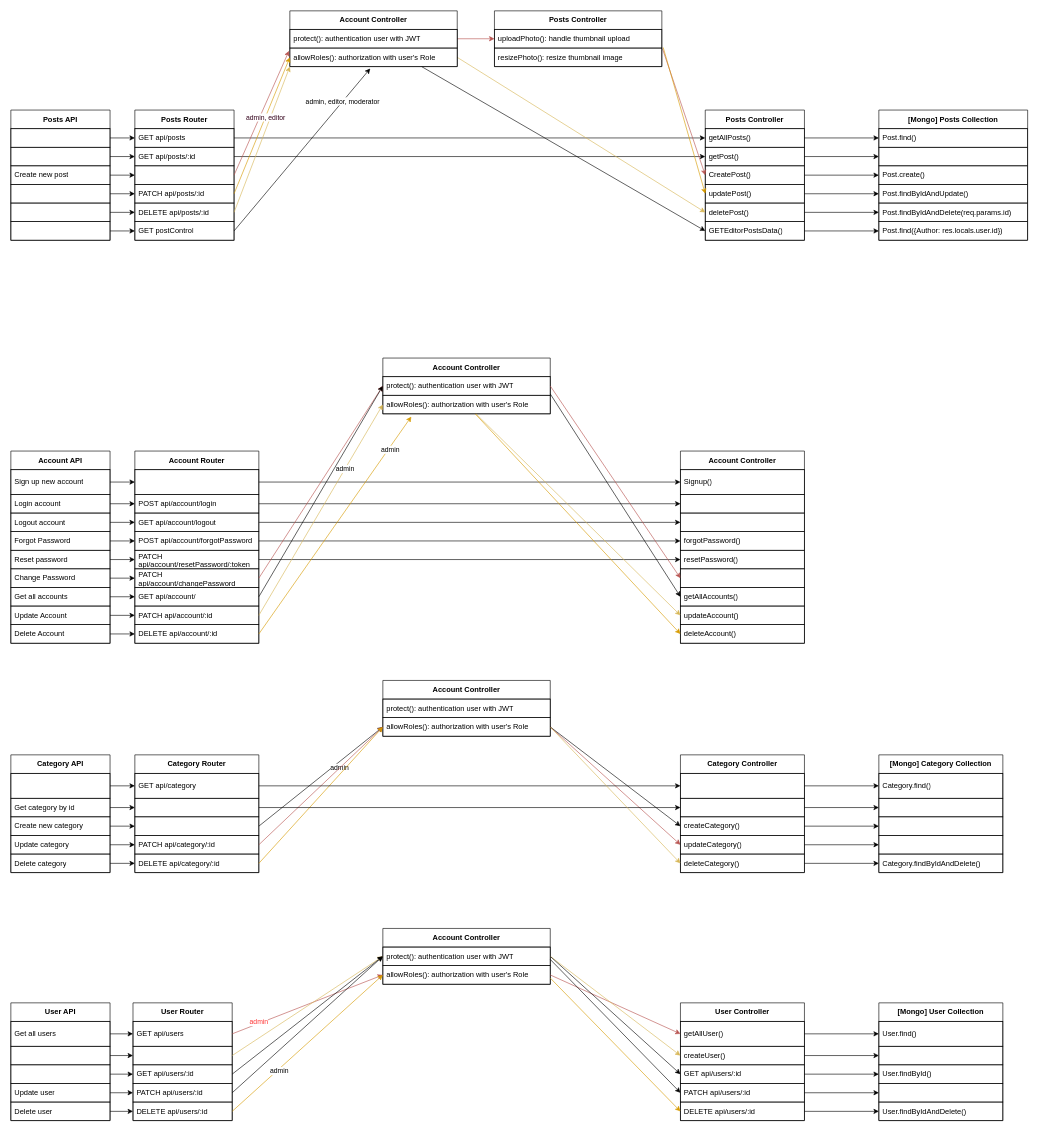
The diagram is 1039 pixels wide and 1132 high, and some of its shapes have lost their labels. Each missing label, with the centre of its shape:
"Category.create()" belongs at (x=940, y=825).
"Category.findById()" belongs at (x=940, y=807).
"Category.save()" belongs at (x=940, y=844).
"Create new user" belongs at (x=60, y=1055).
"Delete post by id" belongs at (x=60, y=212).
"Get all categories" belongs at (x=60, y=785).
"Get all posts (raw content)" belongs at (x=60, y=137).
"GET api/category/:id" belongs at (x=196, y=807).
"Get post by id" belongs at (x=60, y=156).
"Get post written by account role" belongs at (x=60, y=230).
"Get user by id" belongs at (x=60, y=1073).
"getAllCategory()" belongs at (x=742, y=785).
"getCategory()" belongs at (x=742, y=807).
"Login()" belongs at (x=742, y=503).
"Logout()" belongs at (x=742, y=522).
"POST api/account/signup" belongs at (x=196, y=481).
"POST api/category" belongs at (x=196, y=825).
"POST api/posts" belongs at (x=184, y=174).
"POST api/users" belongs at (x=182, y=1055).
"Post.findById(req.params.id)" belongs at (x=953, y=156).
"Update post by id" belongs at (x=60, y=193).
"updatePassword()" belongs at (x=742, y=577).
"User.create()" belongs at (x=940, y=1055).
"User.save()" belongs at (x=940, y=1092).
